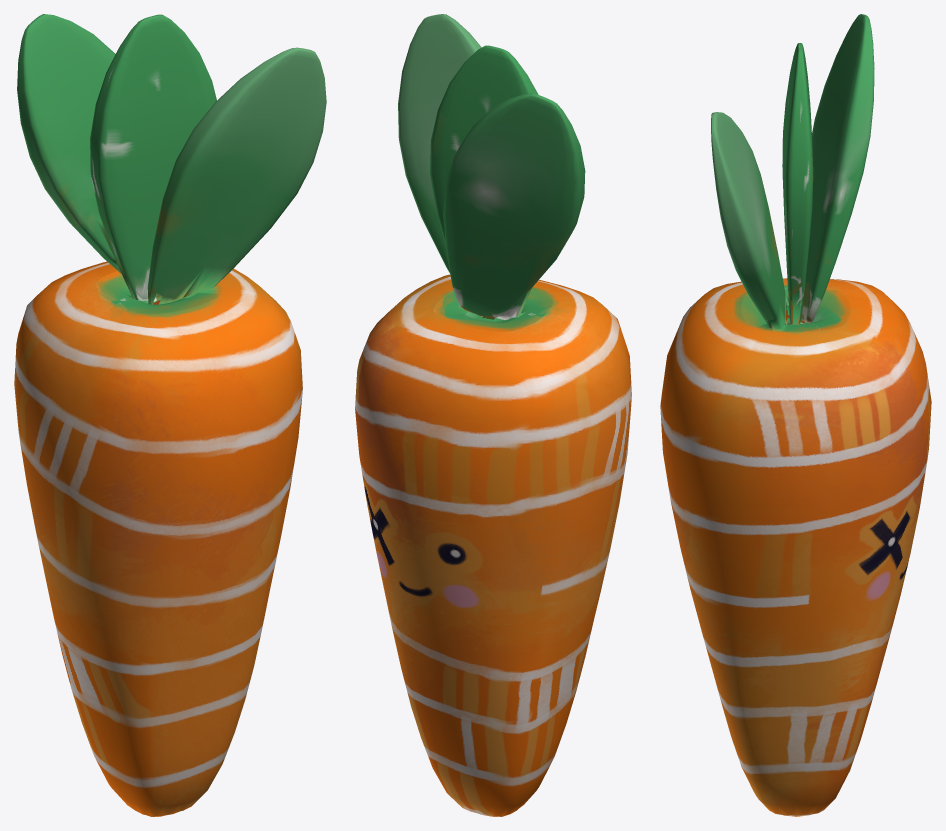
The model's file is Candy_Carrot_.fbx.
The picture shows the model from 3 angles, left to right: view 1: azimuth 30°, elevation 25°; view 2: azimuth 150°, elevation 25°; view 3: azimuth 270°, elevation 25°; orthographic projection. The views are drawn at different scales.
Parts seen in each view (by area): view 1: CandyCarrot; view 2: CandyCarrot; view 3: CandyCarrot.
Part boxes in pixels (x1,y1,x2,y2): CandyCarrot: (14, 14, 326, 816); CandyCarrot: (355, 14, 631, 816); CandyCarrot: (660, 14, 931, 816).
Bounding box in the file's own units: 37.23 × 113 × 36.29.
